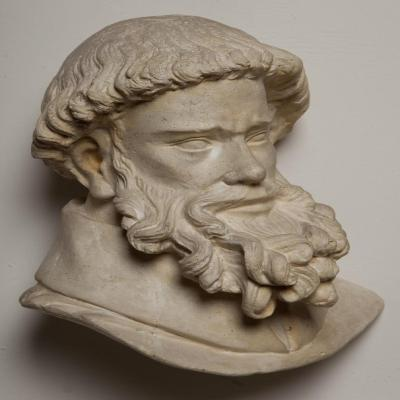sculpture: (19, 14, 386, 378)
